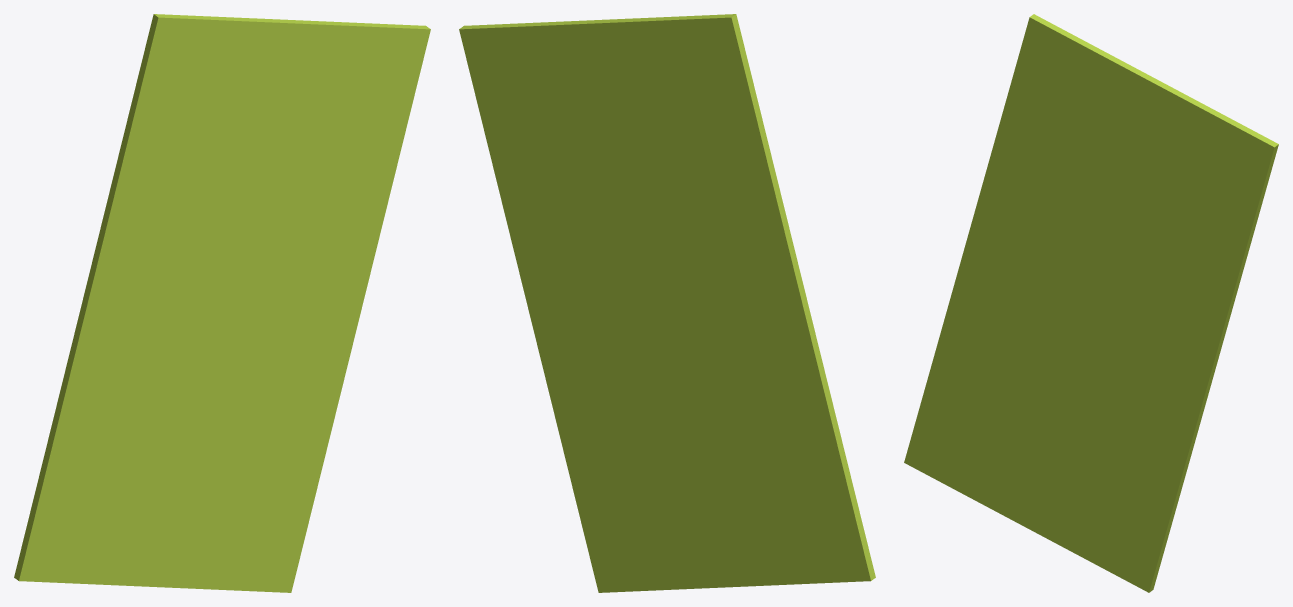
The picture shows the model from 3 angles, left to right: view 1: azimuth 30°, elevation 25°; view 2: azimuth 150°, elevation 25°; view 3: azimuth 330°, elevation 25°; orthographic projection. The views are drawn at different scales.
Parts seen in each view (by area): view 1: osm-way27917482-F1; view 2: osm-way27917482-F1; view 3: osm-way27917482-F1.
Part boxes in pixels (left/top/right/bottom): osm-way27917482-F1: left=14, top=14, right=430, bottom=592; osm-way27917482-F1: left=459, top=14, right=875, bottom=592; osm-way27917482-F1: left=904, top=14, right=1278, bottom=592.
Bounding box in the file's own units: 7.34 × 10.35 × 0.15.
